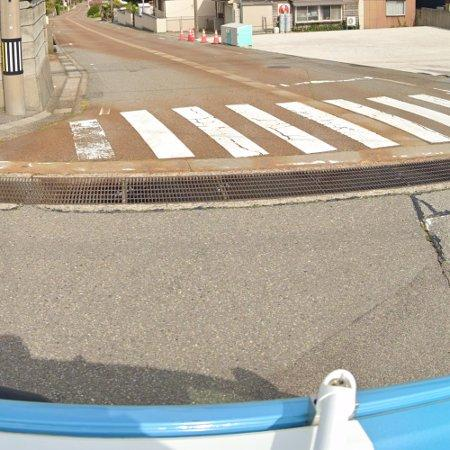crosswalks: (61, 87, 450, 166)
